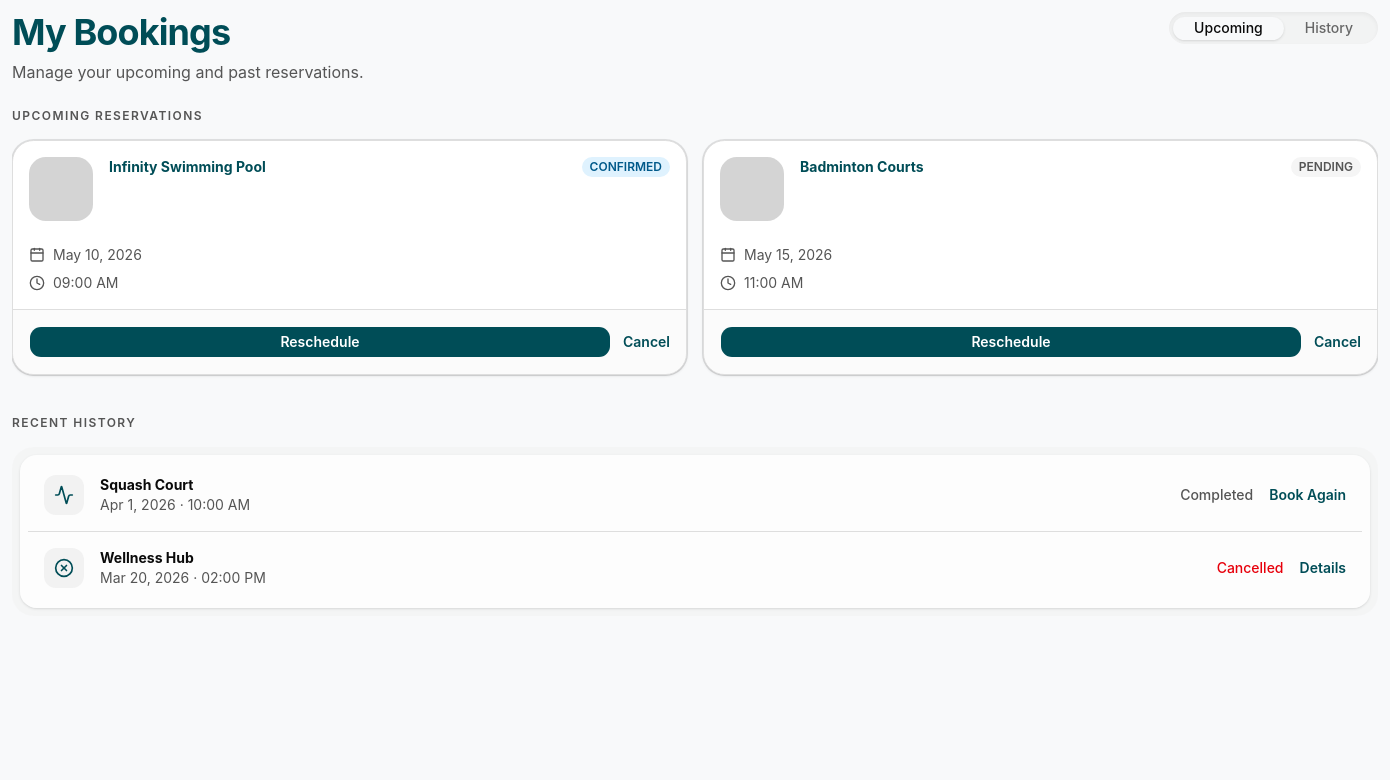
Test: BookingsPage › switches to history tab when clicked
The image size is (1390, 780).
Click the tab "History" at (1329, 28), box [1284,16,1374,40]
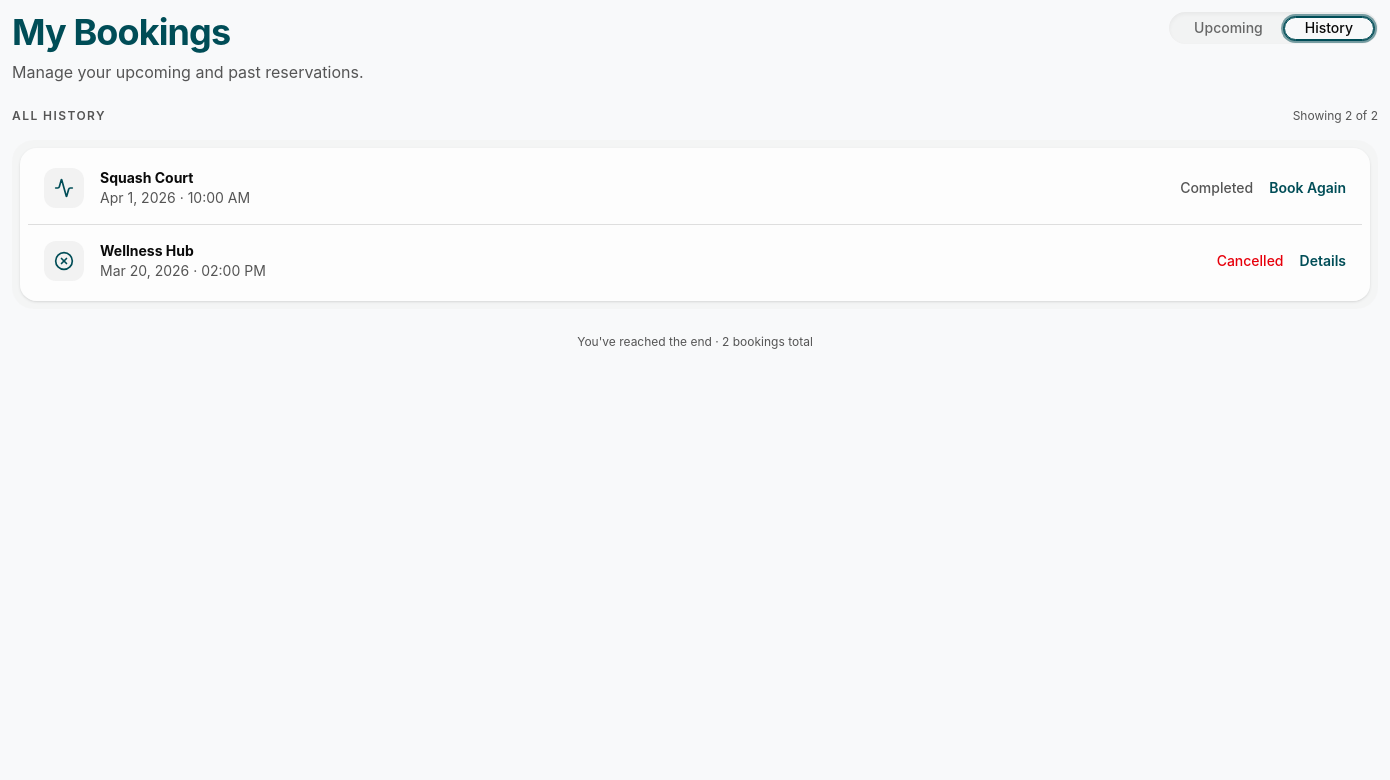
Expected: the heading "All history" is shown, [12,108,106,124]
